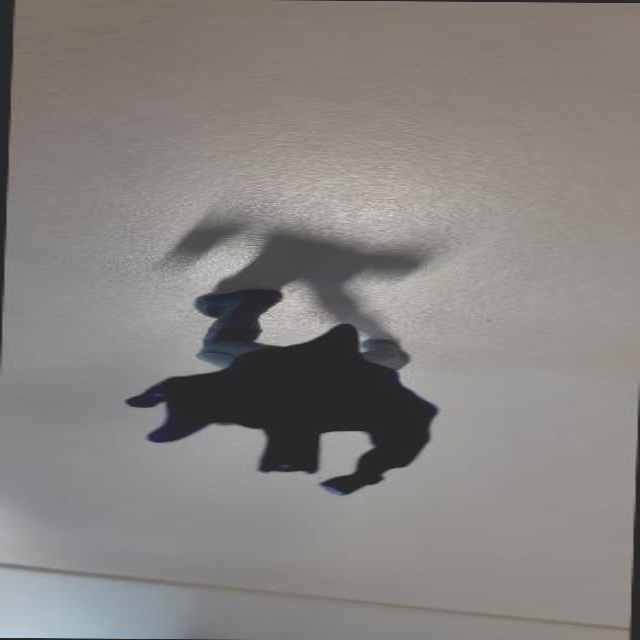Batman: (105, 288, 461, 497)
